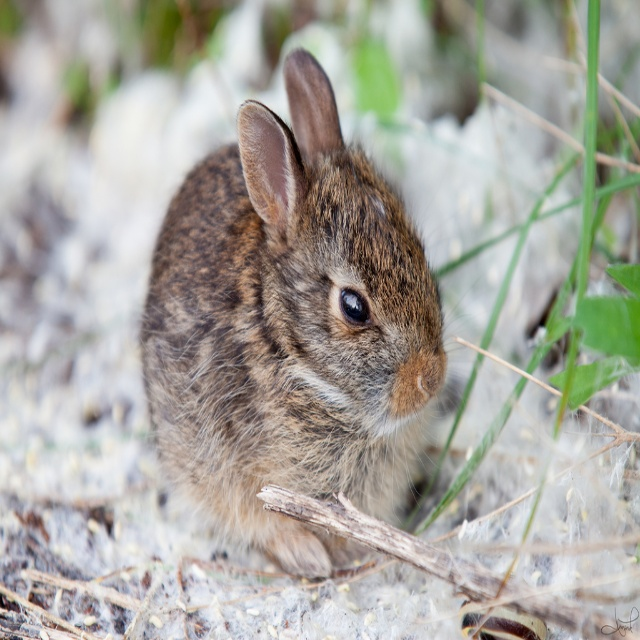Rabbit: (135, 44, 486, 584)
